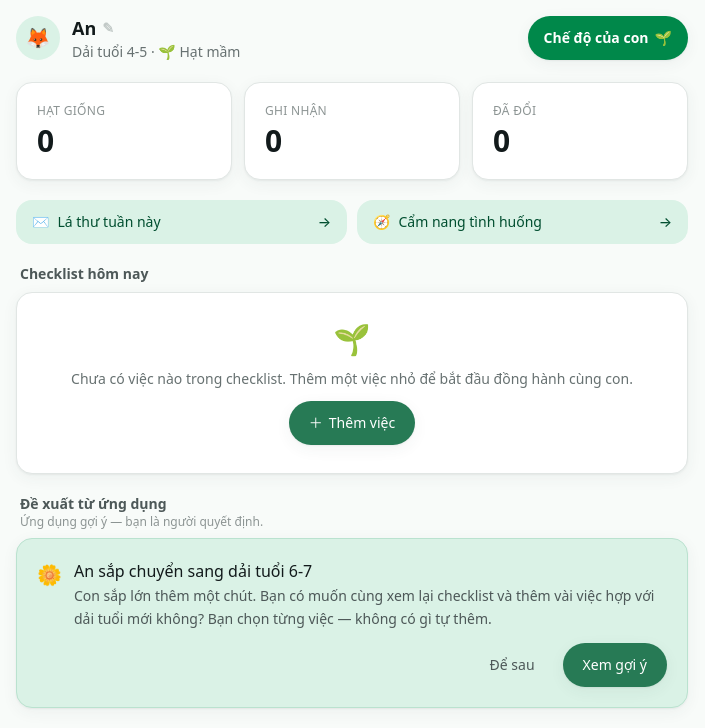
Test: ParentDashboard — band_review proposal › can be dismissed
Click the button "Để sau". click: (512,664)
box: [470,642,555,686]
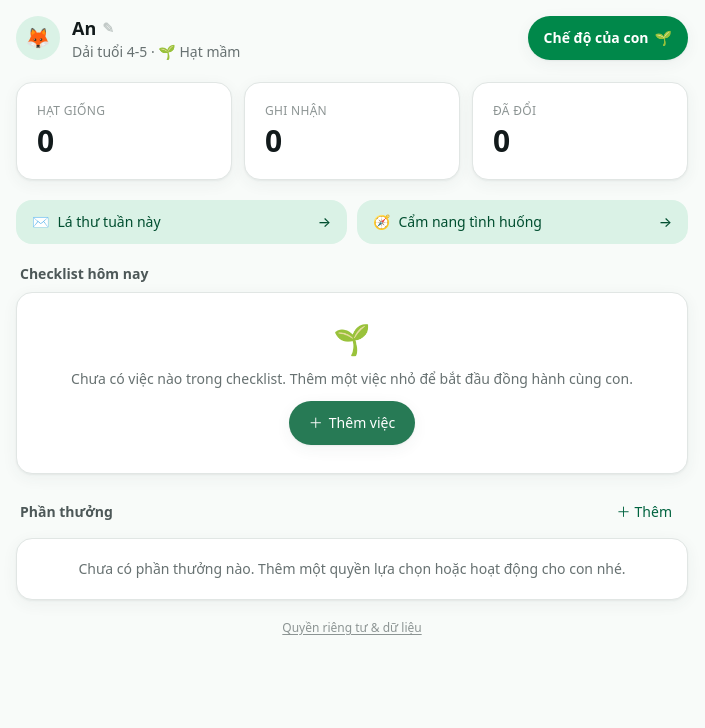
Check: the text "sắp chuyển sang dải tuổi" is gone
